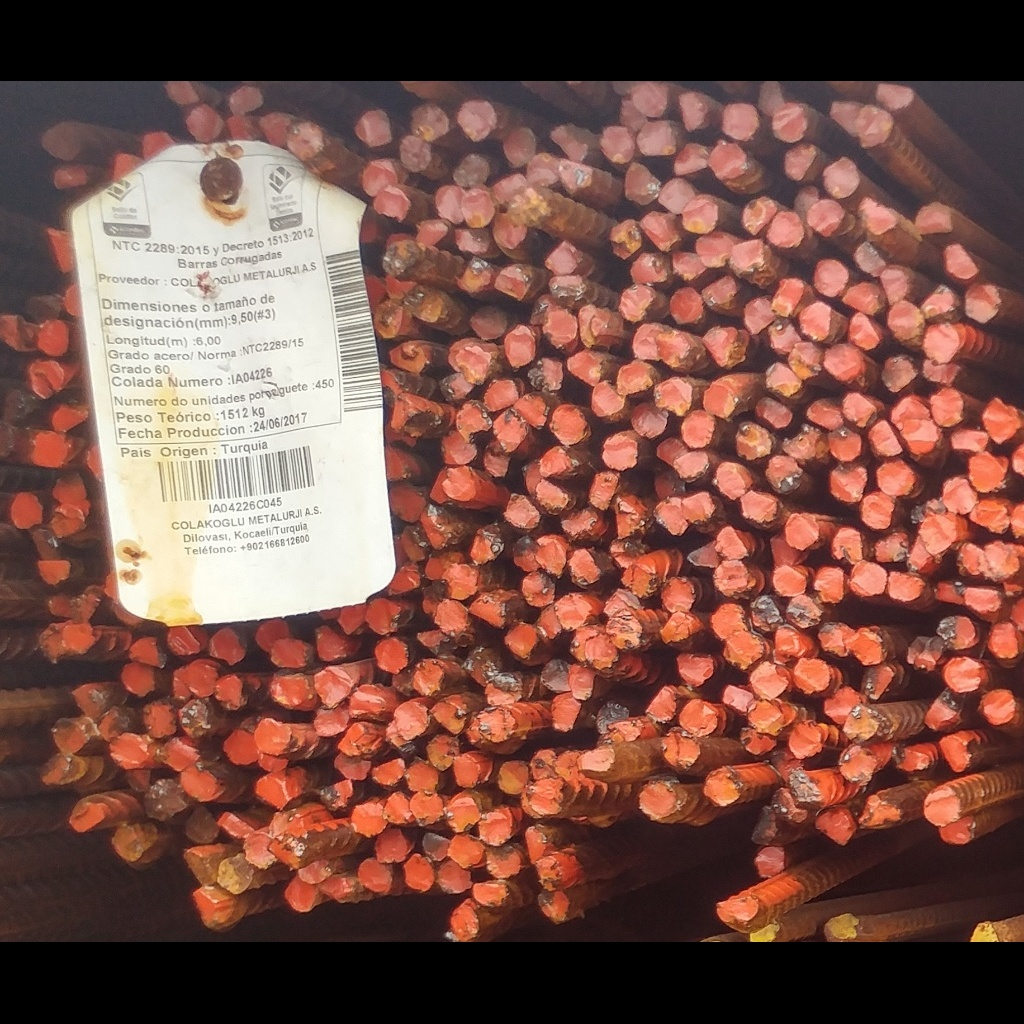dipstick: (983, 398, 1018, 445), (393, 393, 430, 437), (642, 212, 681, 251), (42, 124, 82, 162), (661, 730, 701, 768), (625, 162, 659, 205), (824, 156, 858, 199), (970, 455, 1008, 493), (552, 405, 587, 446), (717, 898, 758, 933), (313, 667, 350, 705), (552, 125, 589, 163), (705, 329, 744, 365), (660, 611, 702, 644), (859, 796, 901, 829), (680, 699, 717, 736), (825, 344, 861, 382), (924, 322, 959, 361), (504, 326, 536, 368), (195, 887, 232, 923), (406, 287, 443, 323), (479, 707, 517, 742), (459, 101, 494, 139), (965, 284, 1000, 322), (861, 196, 895, 235), (208, 628, 244, 664), (656, 378, 692, 414), (816, 809, 852, 845), (110, 734, 147, 769), (411, 104, 448, 139), (751, 663, 788, 698), (793, 658, 830, 693), (850, 561, 887, 596), (710, 141, 747, 176), (774, 104, 809, 141), (888, 303, 923, 340), (145, 786, 183, 820), (640, 782, 678, 816), (638, 122, 676, 156), (705, 768, 739, 806), (737, 423, 772, 459), (767, 457, 802, 493), (831, 464, 866, 500), (789, 773, 824, 809), (813, 260, 848, 296), (722, 104, 758, 139), (185, 848, 219, 885), (683, 195, 717, 232), (620, 285, 654, 322), (920, 516, 954, 553), (445, 795, 478, 833), (716, 462, 751, 497), (840, 747, 875, 782), (632, 82, 667, 117), (348, 684, 384, 718), (494, 266, 530, 300), (632, 401, 666, 437), (224, 729, 257, 766), (390, 486, 423, 523), (558, 592, 591, 629), (726, 633, 763, 666), (858, 108, 891, 145), (270, 673, 308, 705), (472, 524, 504, 562), (784, 143, 816, 181), (930, 388, 962, 426), (502, 127, 533, 166), (366, 599, 400, 634), (470, 306, 505, 340), (51, 719, 87, 752), (256, 618, 289, 654), (484, 846, 520, 879), (510, 189, 546, 222), (925, 789, 958, 825), (944, 658, 980, 691), (862, 494, 895, 530), (903, 421, 940, 453), (495, 412, 526, 450), (875, 462, 913, 493), (357, 111, 391, 145), (32, 434, 66, 468), (712, 604, 746, 638), (881, 358, 915, 392), (187, 105, 220, 140), (287, 123, 322, 156), (522, 572, 555, 607), (748, 701, 783, 734), (789, 723, 822, 758), (924, 692, 957, 727), (768, 213, 803, 246), (37, 320, 69, 356), (51, 473, 87, 505), (111, 824, 143, 860), (569, 549, 601, 585), (364, 159, 396, 195), (907, 636, 943, 668), (807, 201, 843, 233), (436, 185, 464, 226), (187, 807, 218, 844), (646, 686, 677, 723), (678, 654, 715, 685), (457, 345, 488, 382), (671, 287, 702, 324), (800, 301, 830, 339), (390, 344, 429, 373), (219, 857, 252, 891), (608, 613, 642, 646), (603, 437, 637, 470), (659, 179, 692, 213), (788, 343, 821, 377), (828, 429, 861, 463), (844, 393, 877, 427), (529, 357, 561, 392), (619, 362, 651, 397), (773, 789, 805, 824), (860, 665, 892, 700), (946, 242, 978, 277), (396, 702, 427, 738), (939, 617, 975, 648), (813, 566, 844, 602), (938, 734, 968, 771), (158, 740, 196, 769), (375, 303, 404, 341), (30, 361, 63, 394), (585, 636, 618, 669), (537, 479, 570, 512), (454, 154, 487, 187), (787, 595, 820, 628), (986, 543, 1019, 576), (255, 777, 287, 811), (682, 413, 714, 447), (826, 688, 858, 722), (853, 241, 885, 275), (449, 906, 480, 941), (377, 639, 408, 674), (400, 136, 431, 171), (545, 243, 580, 274), (984, 689, 1015, 724), (870, 421, 901, 456), (180, 702, 210, 738), (375, 188, 411, 218), (848, 313, 878, 349), (415, 661, 444, 698), (774, 280, 803, 317), (538, 893, 571, 925), (530, 780, 563, 812), (506, 496, 539, 528), (622, 565, 655, 597), (659, 334, 691, 367), (714, 561, 747, 593), (845, 709, 878, 741), (674, 142, 707, 174), (458, 403, 489, 437), (444, 567, 478, 598), (493, 214, 524, 248), (787, 514, 818, 548), (774, 627, 808, 658), (850, 631, 881, 665), (743, 197, 774, 231), (944, 479, 975, 513), (49, 231, 74, 273), (784, 429, 819, 459), (916, 203, 951, 233), (228, 86, 264, 115), (13, 493, 42, 529), (552, 694, 581, 730), (655, 499, 684, 535), (461, 258, 490, 294), (546, 311, 575, 347), (462, 190, 491, 226), (613, 221, 642, 257), (841, 286, 879, 313), (449, 834, 481, 866), (484, 380, 516, 412), (662, 578, 694, 610), (273, 638, 306, 669), (506, 624, 537, 657), (601, 127, 632, 160), (750, 597, 783, 628), (73, 686, 107, 716), (182, 771, 216, 801), (351, 804, 385, 834), (244, 834, 274, 868), (471, 597, 505, 627), (697, 235, 731, 265), (766, 365, 800, 395), (773, 566, 807, 596), (216, 675, 245, 710), (631, 254, 666, 283), (702, 276, 737, 305), (405, 855, 433, 891), (557, 161, 593, 189), (123, 665, 154, 697), (376, 829, 407, 861), (684, 492, 716, 523), (442, 434, 475, 464), (536, 539, 566, 572), (578, 745, 616, 771), (70, 803, 104, 832), (499, 760, 528, 794), (389, 562, 418, 596), (517, 395, 546, 429), (757, 398, 791, 427), (808, 400, 842, 429), (129, 638, 164, 666), (740, 728, 776, 755), (939, 817, 975, 844), (549, 276, 586, 302), (633, 323, 659, 360), (680, 93, 706, 130), (144, 705, 175, 736), (321, 780, 352, 811), (819, 624, 850, 655), (42, 755, 74, 785), (439, 862, 471, 892), (528, 154, 558, 186), (733, 241, 763, 273), (314, 708, 347, 737), (541, 659, 570, 692), (705, 384, 734, 417), (889, 572, 922, 601), (875, 533, 908, 562), (830, 102, 859, 135), (921, 288, 954, 317), (383, 241, 411, 275), (742, 492, 776, 520), (609, 539, 644, 566), (990, 623, 1017, 658), (580, 307, 603, 348), (753, 806, 777, 845), (2, 391, 33, 421), (53, 506, 83, 537), (337, 603, 367, 634), (359, 861, 389, 892), (568, 355, 599, 385), (718, 527, 748, 558), (479, 813, 508, 845), (437, 601, 466, 633), (592, 384, 624, 413), (755, 846, 784, 878), (484, 678, 521, 703), (591, 473, 616, 510), (261, 113, 289, 146), (256, 720, 284, 753), (440, 375, 473, 403), (770, 320, 798, 353), (617, 503, 644, 537), (891, 396, 929, 420), (562, 510, 597, 536), (223, 115, 259, 140), (434, 703, 463, 734), (315, 628, 343, 660), (413, 790, 440, 823), (676, 453, 709, 480), (382, 447, 408, 481), (52, 408, 87, 433), (537, 856, 562, 891), (469, 649, 494, 684), (41, 622, 64, 660), (187, 666, 216, 696), (169, 628, 199, 657), (407, 761, 437, 790), (833, 530, 861, 561), (218, 812, 254, 836), (745, 300, 772, 332), (287, 877, 313, 910), (893, 745, 926, 771), (963, 543, 989, 576), (569, 667, 594, 701), (965, 588, 999, 613), (771, 537, 800, 566), (65, 622, 93, 652), (275, 837, 303, 867), (493, 174, 524, 201), (881, 271, 908, 302), (339, 724, 365, 756), (386, 792, 411, 825), (335, 757, 372, 779), (374, 758, 403, 786), (596, 706, 625, 734), (672, 251, 700, 280), (100, 709, 126, 740), (653, 471, 684, 497), (513, 536, 536, 571), (525, 824, 545, 864), (687, 542, 719, 567), (455, 229, 488, 253), (32, 529, 59, 558), (430, 738, 457, 767), (539, 447, 566, 476), (415, 222, 449, 245), (657, 439, 687, 465), (760, 82, 785, 113), (27, 300, 62, 322), (604, 591, 639, 613), (448, 467, 471, 500), (878, 86, 911, 109), (416, 630, 450, 652), (322, 878, 353, 902), (424, 508, 443, 547), (37, 561, 69, 584), (484, 443, 507, 475), (144, 132, 173, 157), (472, 884, 503, 907), (555, 750, 583, 775), (924, 363, 959, 383), (74, 594, 98, 623), (382, 368, 406, 397), (1, 316, 22, 349), (934, 581, 964, 604), (166, 82, 197, 104), (724, 685, 751, 710), (299, 863, 332, 883), (795, 186, 819, 213), (772, 751, 802, 772), (53, 167, 86, 186), (404, 528, 423, 561), (540, 608, 559, 641), (531, 751, 554, 778), (621, 100, 644, 127), (951, 431, 985, 449), (456, 758, 477, 787), (424, 835, 449, 859), (610, 721, 640, 741), (530, 296, 551, 324), (424, 580, 443, 610), (66, 285, 80, 323), (425, 554, 449, 576), (569, 629, 585, 662), (429, 470, 445, 502), (172, 670, 189, 700), (50, 596, 73, 616), (524, 461, 538, 493), (259, 754, 287, 769), (387, 724, 406, 746), (128, 772, 148, 791)
